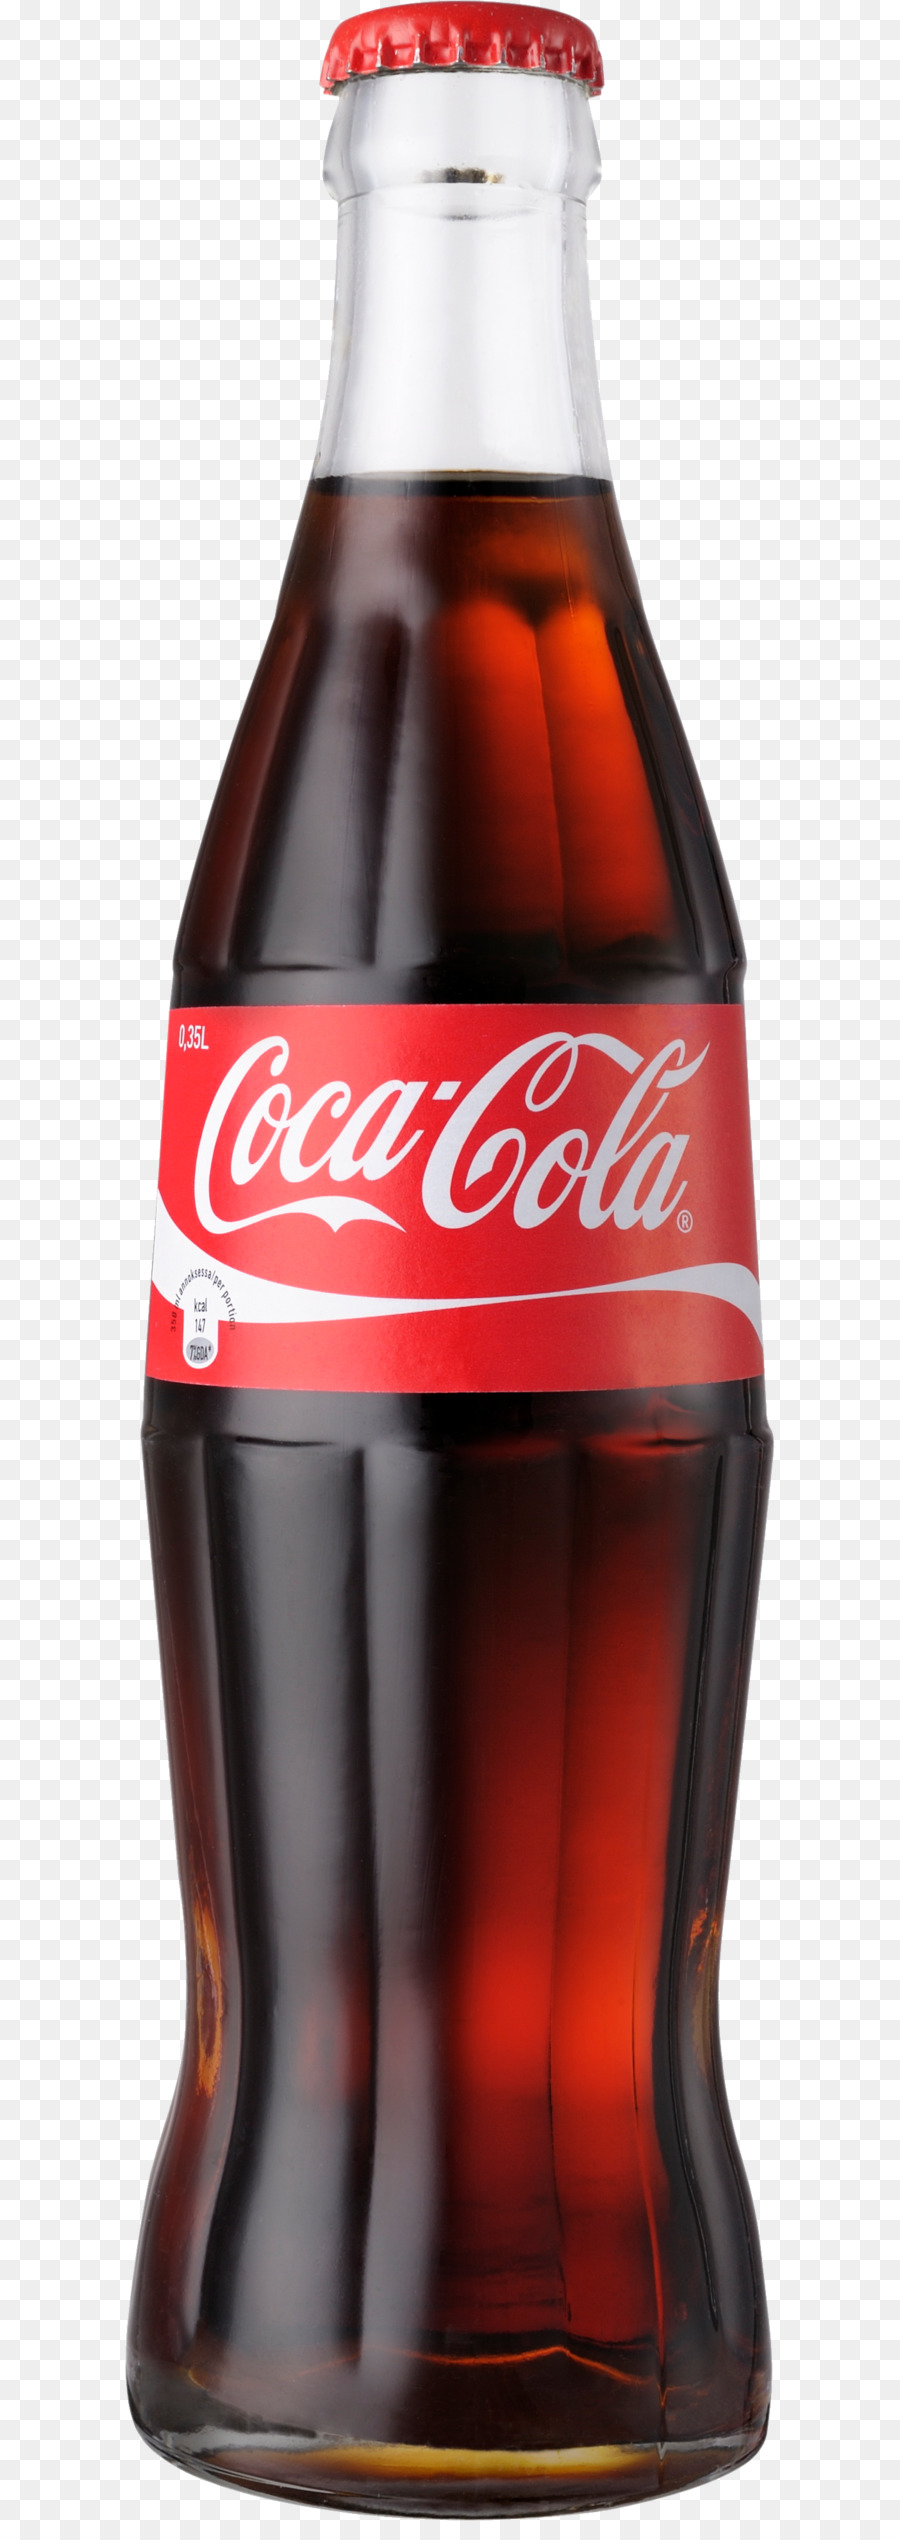coca_cola_bottle: (129, 2, 798, 2509)
